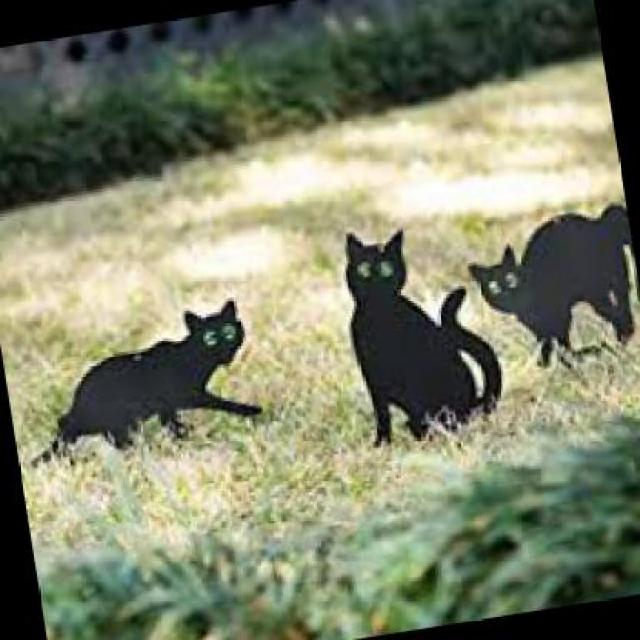animals: (310, 196, 496, 455), (18, 287, 280, 470), (466, 191, 639, 380)
